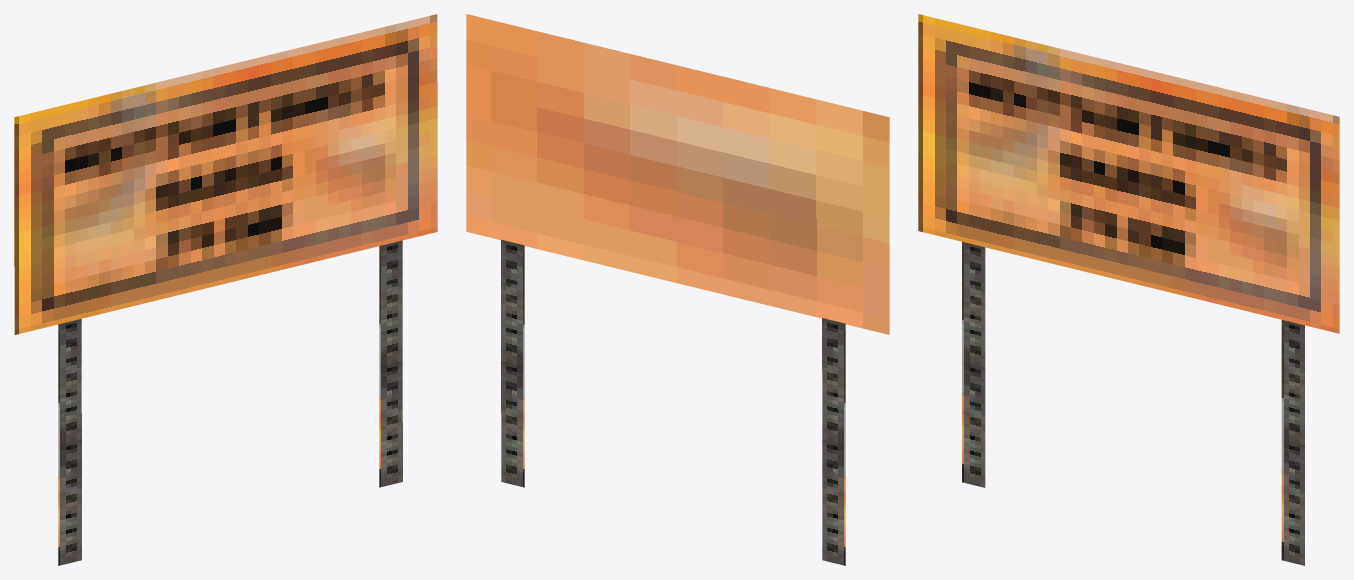
File: Constsign04.glb
3 renders of one model, left to right at view 1: azimuth 30°, elevation 25°; view 2: azimuth 150°, elevation 25°; view 3: azimuth 330°, elevation 25°, orthographic.
Visible parts, largest first — view 1: Constsign04; view 2: Constsign04; view 3: Constsign04.
Part boxes in pixels (x1,y1,x2,y2): Constsign04: (14,14,437,565); Constsign04: (466,14,889,565); Constsign04: (918,14,1339,565).
Bounding box in the file's own units: 236 × 245 × 0.103.
1 material, 1 textured.
